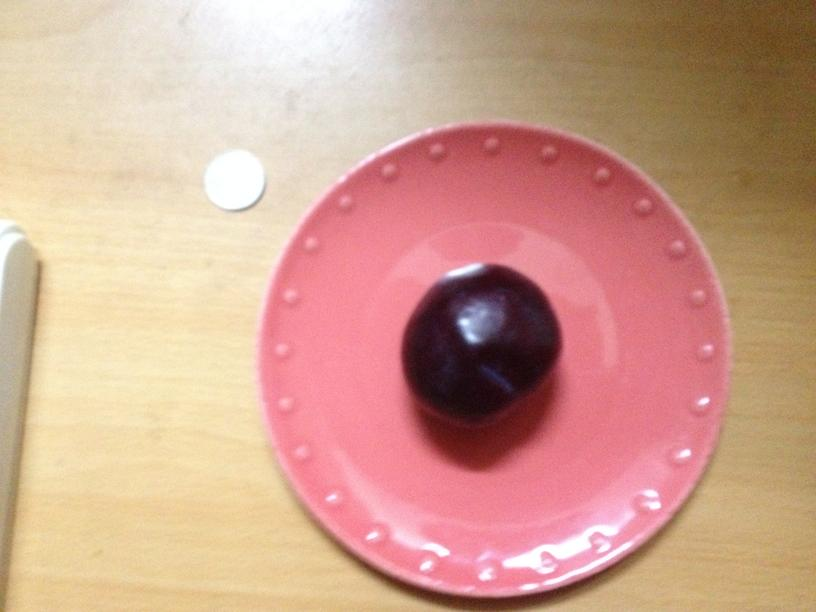coin: (198, 148, 269, 211)
plum: (397, 261, 562, 421)
